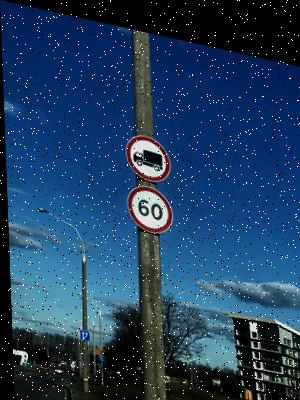Speed Limit -60-: (123, 174, 171, 230)
